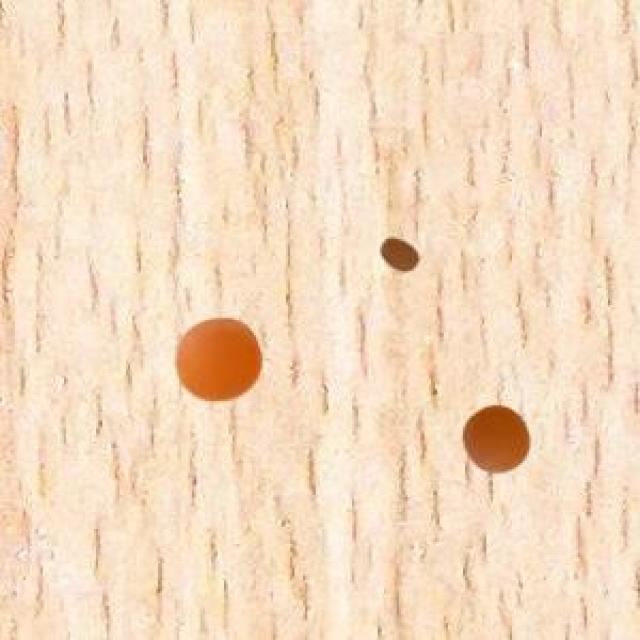Bactidol: (166, 302, 264, 423), (448, 395, 544, 483), (372, 219, 435, 291)
